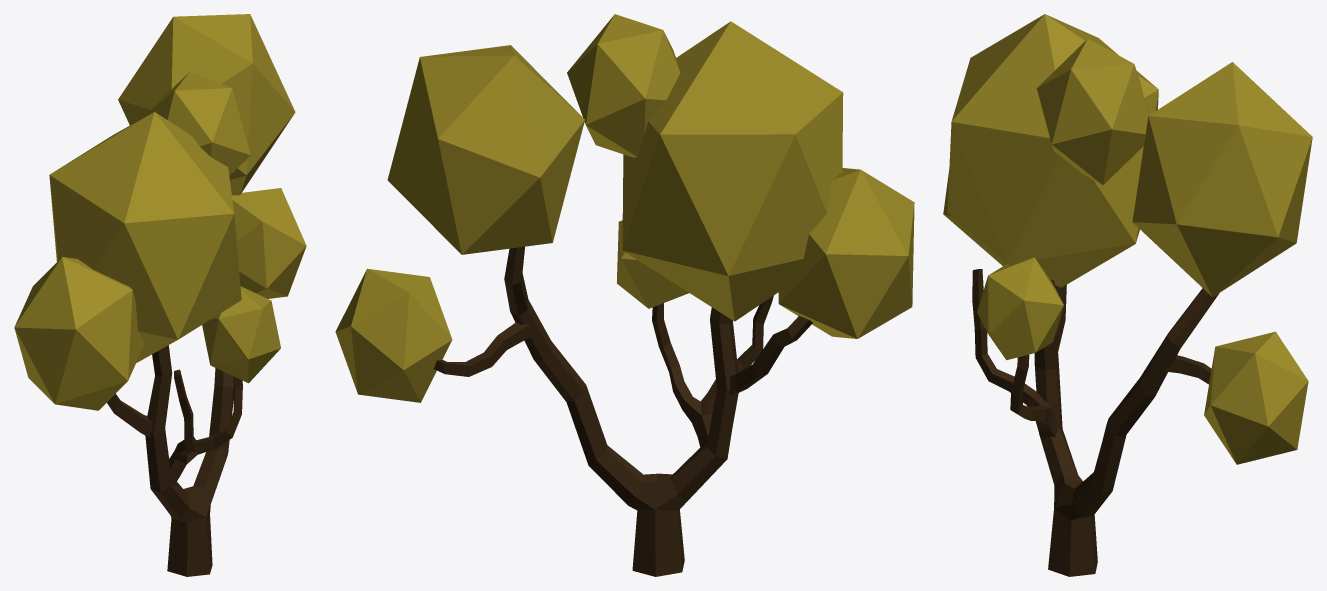
File: low_poly_tree_dark.dae
3 renders of one model, left to right at view 1: azimuth 30°, elevation 25°; view 2: azimuth 150°, elevation 25°; view 3: azimuth 270°, elevation 25°, orthographic. The views are drawn at different scales.
Visible parts, largest first — view 1: Tree_lp_11; view 2: Tree_lp_11; view 3: Tree_lp_11.
Boxes of the visible parts, x1=… form: Tree_lp_11: x1=14, y1=14, x2=306, y2=576; Tree_lp_11: x1=335, y1=14, x2=914, y2=576; Tree_lp_11: x1=943, y1=14, x2=1312, y2=576.
Bounding box in the file's own units: 27.98 × 33.18 × 20.8.
